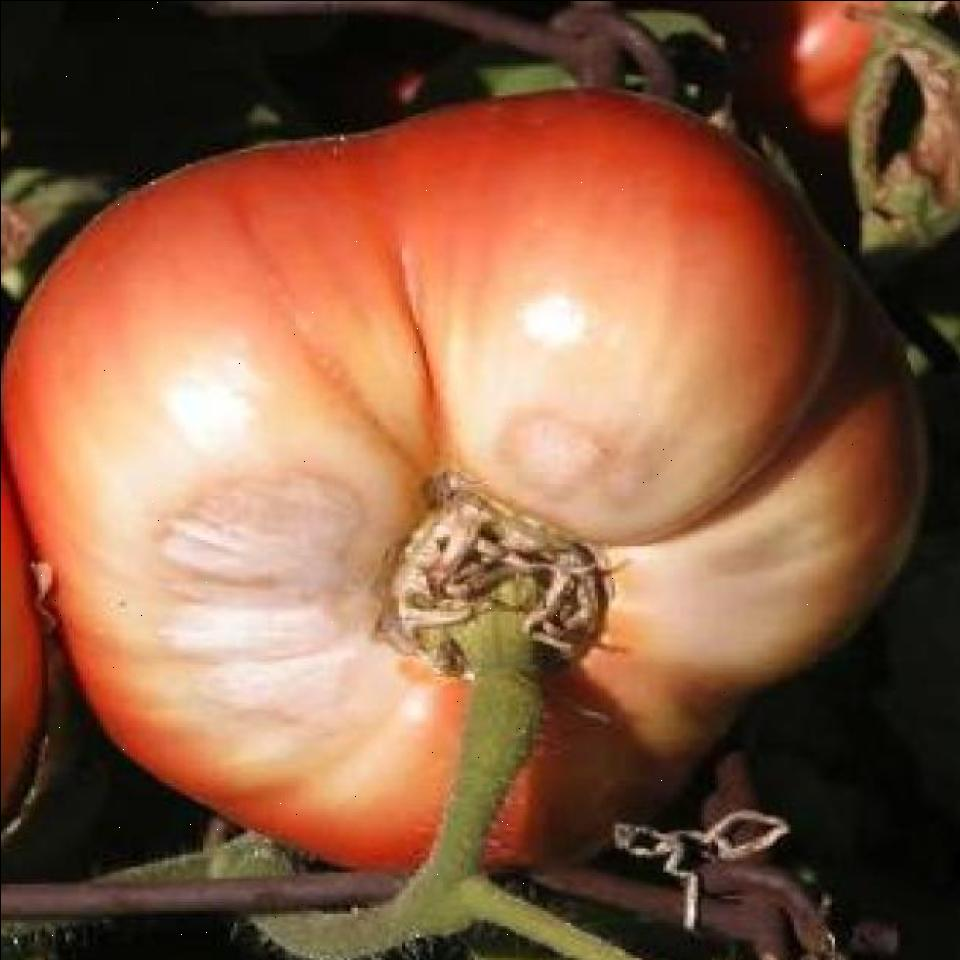Sunscald: (126, 454, 368, 790), (640, 491, 826, 668), (440, 371, 678, 501)
